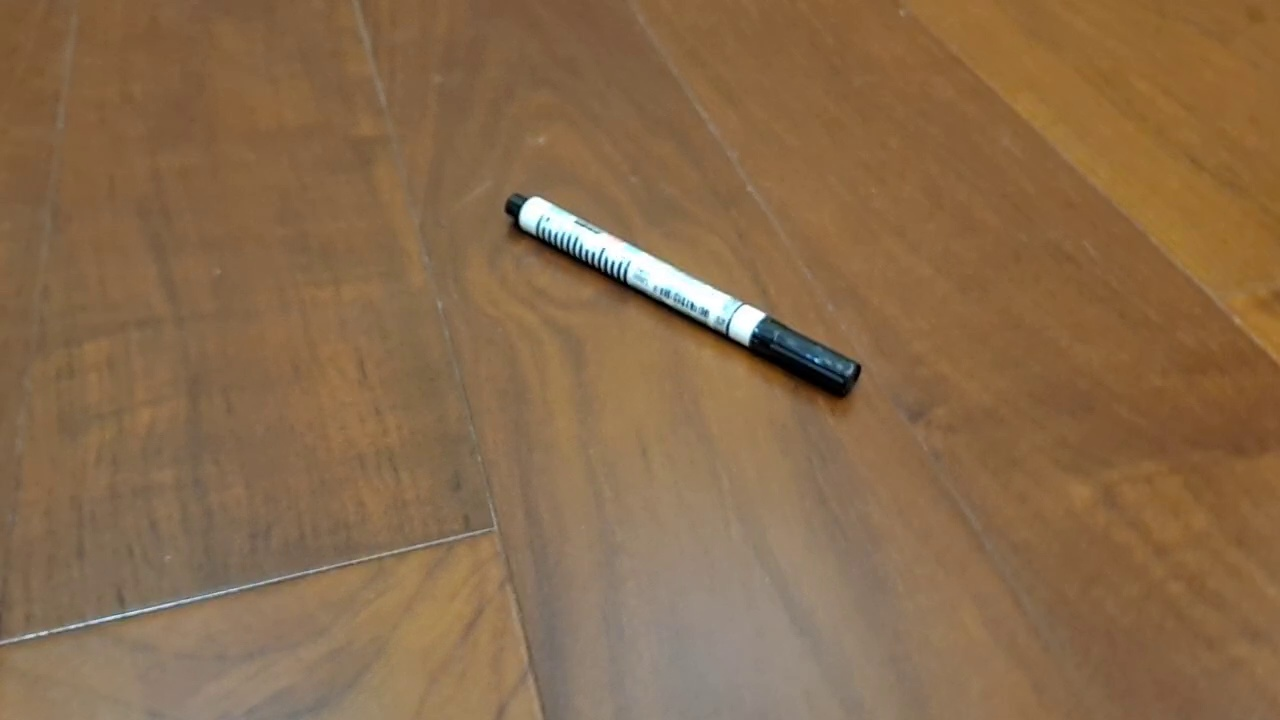pen: (502, 192, 862, 400)
